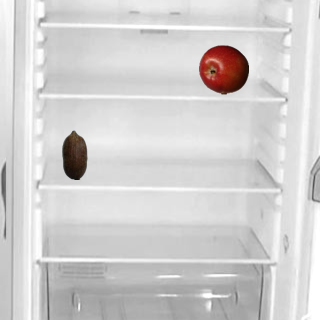Apple Braeburn: (198, 44, 248, 94)
Nut Pecan: (49, 129, 99, 179)
